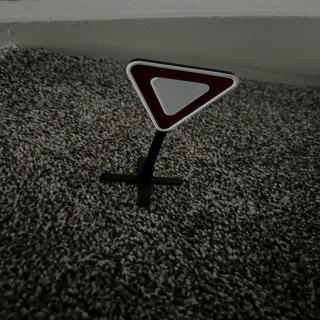sign_yield: (127, 60, 241, 134)
